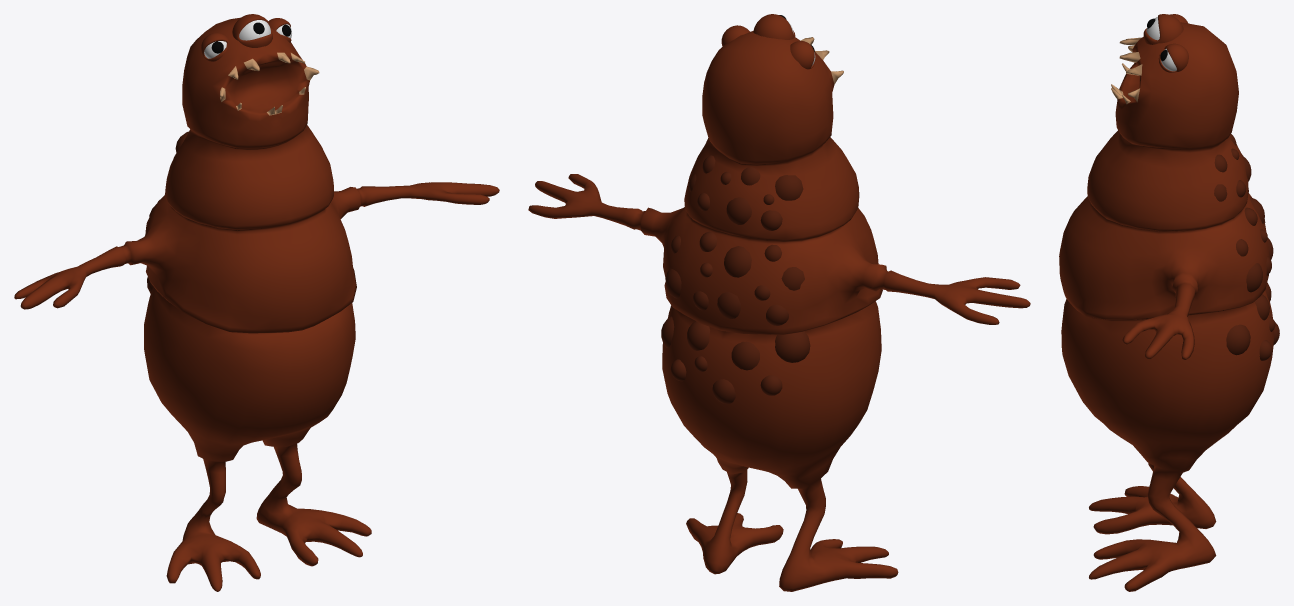
Rendered from LAVA_WOODLOUSE_00I.fbx.
The picture shows the model from 3 angles, left to right: view 1: azimuth 30°, elevation 25°; view 2: azimuth 150°, elevation 25°; view 3: azimuth 270°, elevation 25°; orthographic projection. The views are drawn at different scales.
Parts seen in each view (by area): view 1: LAVA_WOODLOUSE_00I; view 2: LAVA_WOODLOUSE_00I; view 3: LAVA_WOODLOUSE_00I.
Boxes of the visible parts, bbox=[...] form: LAVA_WOODLOUSE_00I: bbox=[14, 14, 499, 591]; LAVA_WOODLOUSE_00I: bbox=[528, 14, 1030, 591]; LAVA_WOODLOUSE_00I: bbox=[1059, 14, 1279, 591].
Bounding box in the file's own units: 1.61 × 1.72 × 0.6479.
